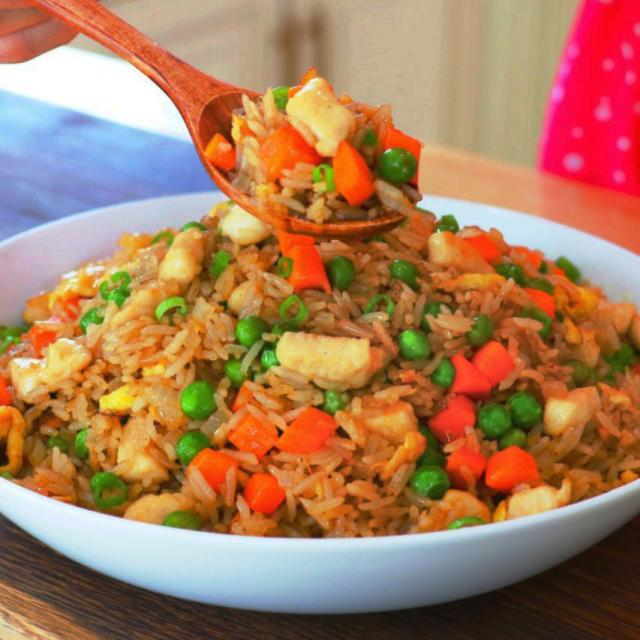Fried Rice: (0, 196, 640, 536), (205, 68, 436, 227)
